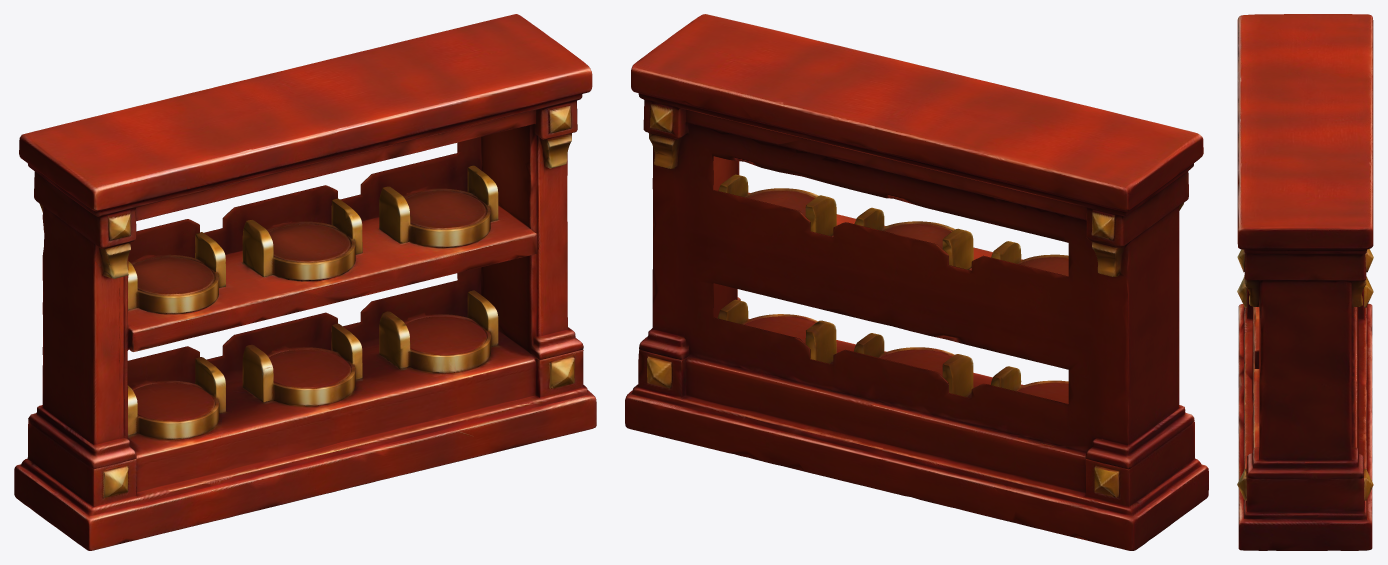
Rendered from 1k-cueball-rack.glb.
3 renders of one model, left to right at view 1: azimuth 30°, elevation 25°; view 2: azimuth 150°, elevation 25°; view 3: azimuth 270°, elevation 25°, orthographic. The views are drawn at different scales.
Visible parts, largest first — view 1: tripo_node_6e5b9ec6-ca75-4bc6-93aa-31580c2deed2; view 2: tripo_node_6e5b9ec6-ca75-4bc6-93aa-31580c2deed2; view 3: tripo_node_6e5b9ec6-ca75-4bc6-93aa-31580c2deed2.
Part boxes in pixels (left/top/right/bottom): tripo_node_6e5b9ec6-ca75-4bc6-93aa-31580c2deed2: left=14, top=14, right=596, bottom=550; tripo_node_6e5b9ec6-ca75-4bc6-93aa-31580c2deed2: left=625, top=14, right=1208, bottom=550; tripo_node_6e5b9ec6-ca75-4bc6-93aa-31580c2deed2: left=1237, top=14, right=1373, bottom=550.
Bounding box in the file's own units: 0.9781 × 0.6666 × 0.257.
1 material, 1 textured.
